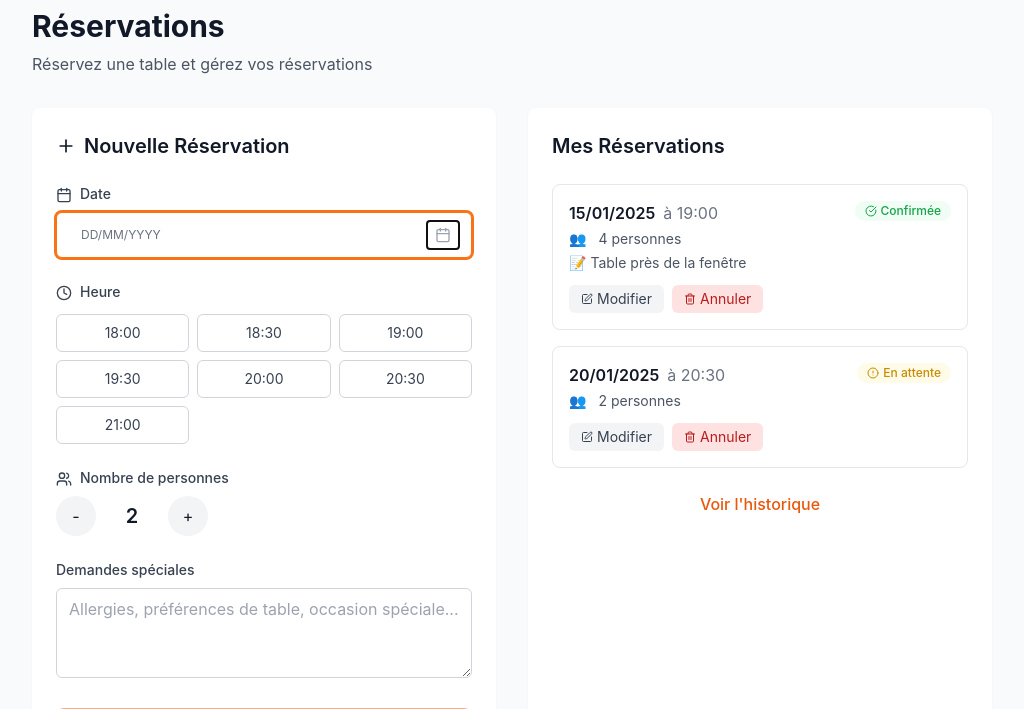
Test: Reservations Component › should enter edit mode when user clicks modify button
Note: Click modify button for first reservation
Click the button "Modifier" below "Table près de la fenêtre".
click(616, 299)  # box [569,285,664,313]
(page scrolled)
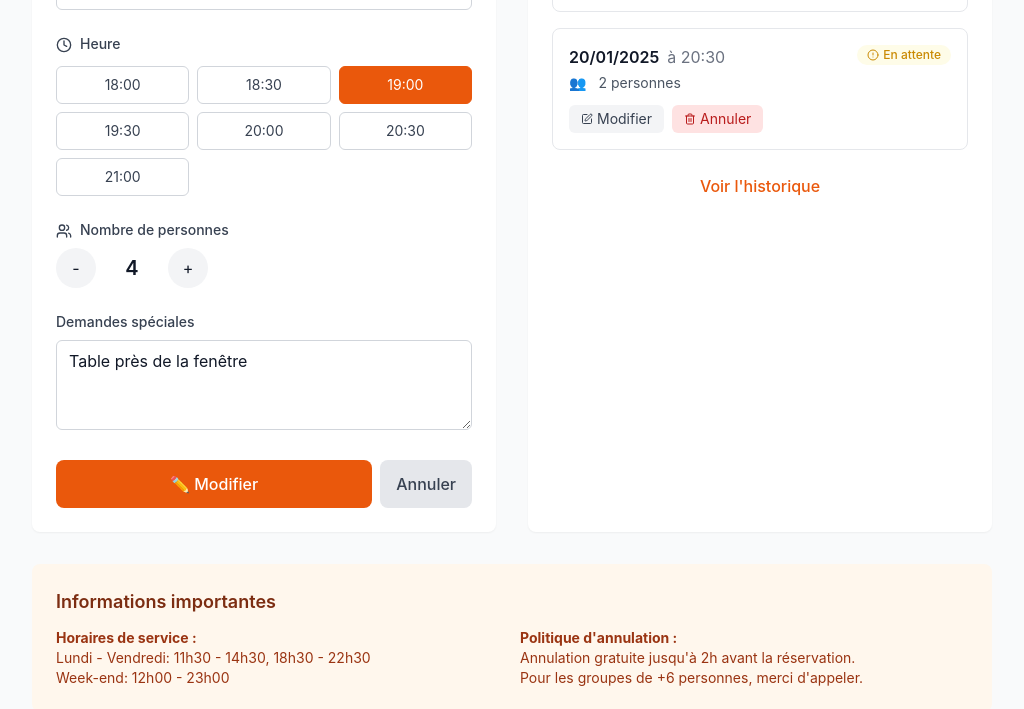
Result: the button "✏️ Modifier" is shown at [56,460,372,508]
Result: the button "Annuler" below "Demandes spéciales" is shown at [380,460,472,508]
